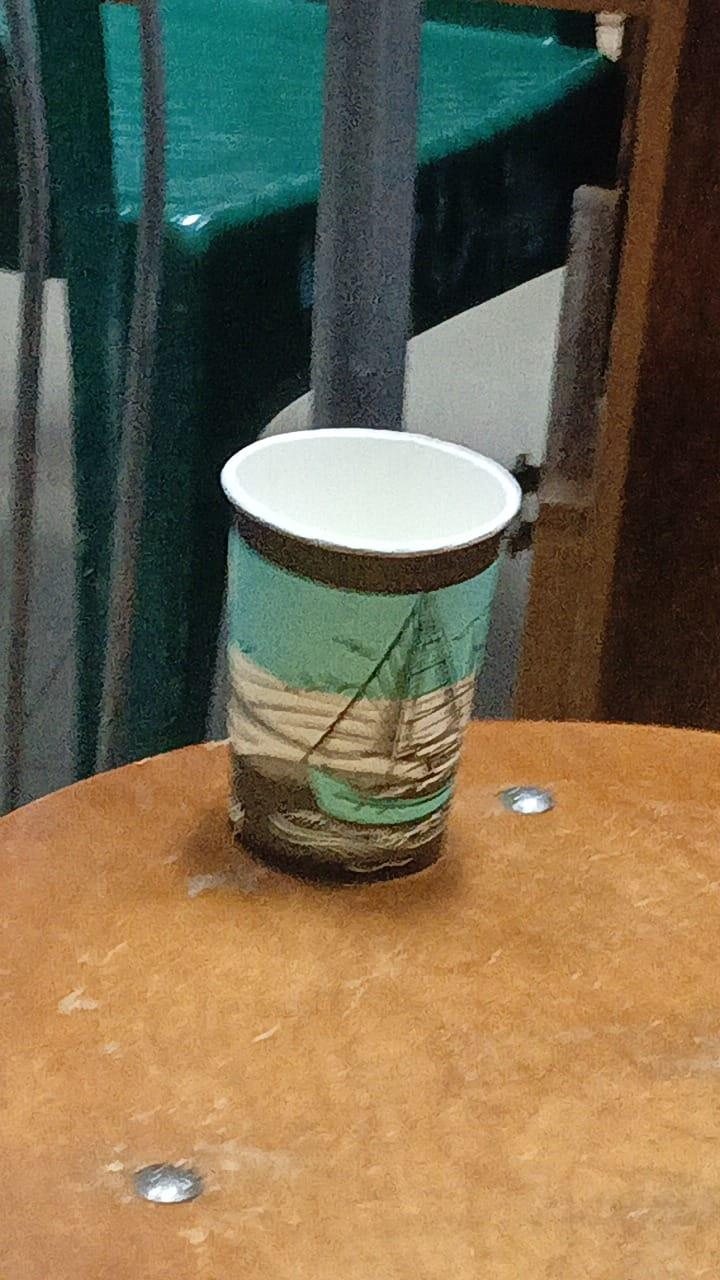cup: (222, 429, 520, 880)
